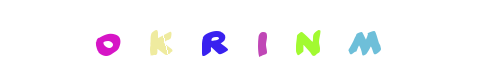1: (210, 0, 290, 80)
K: (132, 0, 212, 80)
M: (316, 0, 396, 80)
N: (268, 0, 348, 80)
O: (119, 0, 199, 80)
R: (173, 0, 253, 80)
